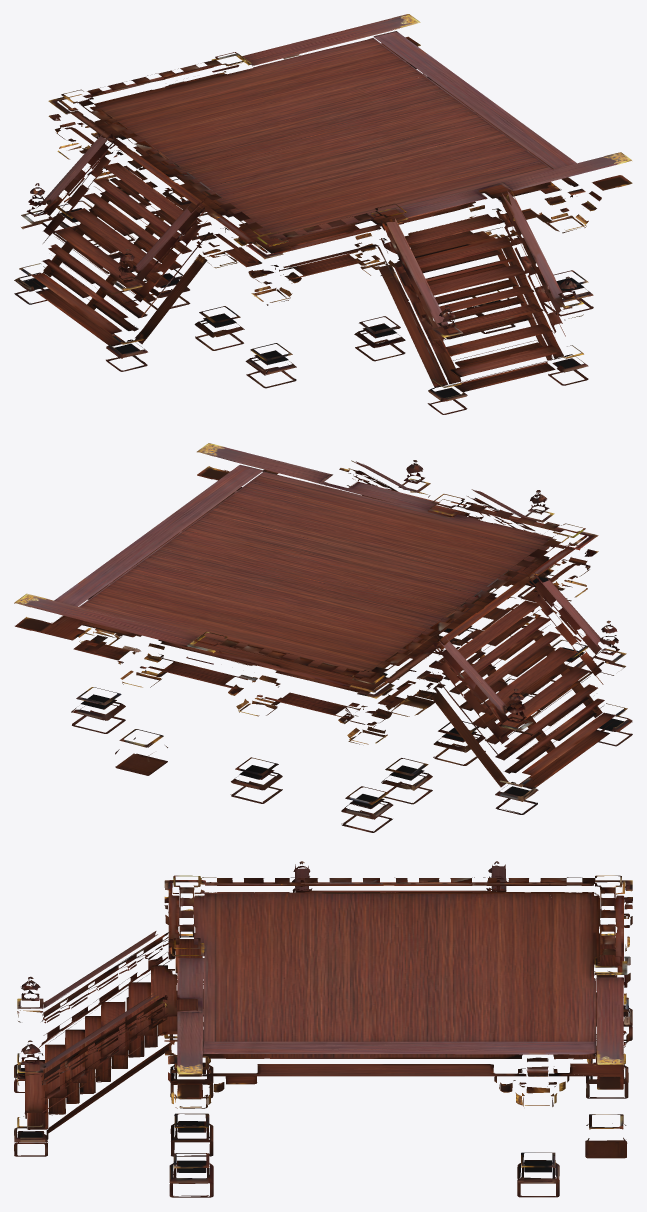
The model's file is SingleStareBase_Floor.fbx.
3 views of the same model, one above another, from view 1: azimuth 30°, elevation 25°; view 2: azimuth 150°, elevation 25°; view 3: azimuth 270°, elevation 25° (orthographic). The views are drawn at different scales.
Visible parts, largest first — view 1: SingleStareBase_Floor; view 2: SingleStareBase_Floor; view 3: SingleStareBase_Floor.
Boxes of the visible parts, x1,y1,x2,y2 form: SingleStareBase_Floor: (14,14,632,414); SingleStareBase_Floor: (14,443,632,832); SingleStareBase_Floor: (14,861,632,1197).
Size of the model in its own units: 7.74 by 2.37 by 8.3.
Materials: 1 (1 with a texture image).
